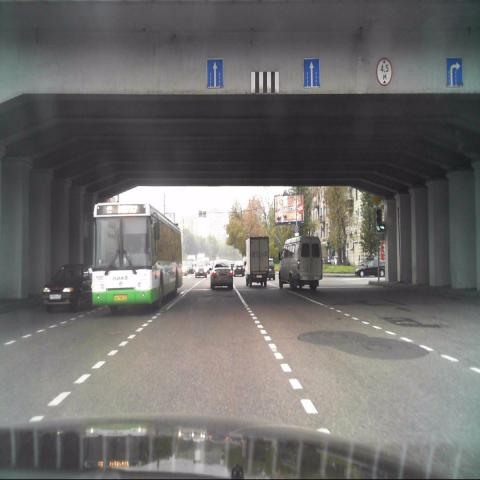5_15_2: (303, 56, 320, 87)
